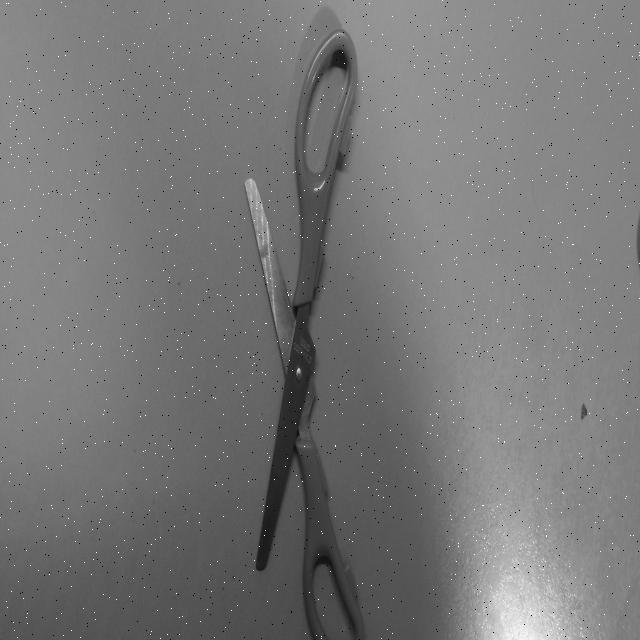scissors: (242, 16, 370, 640)
